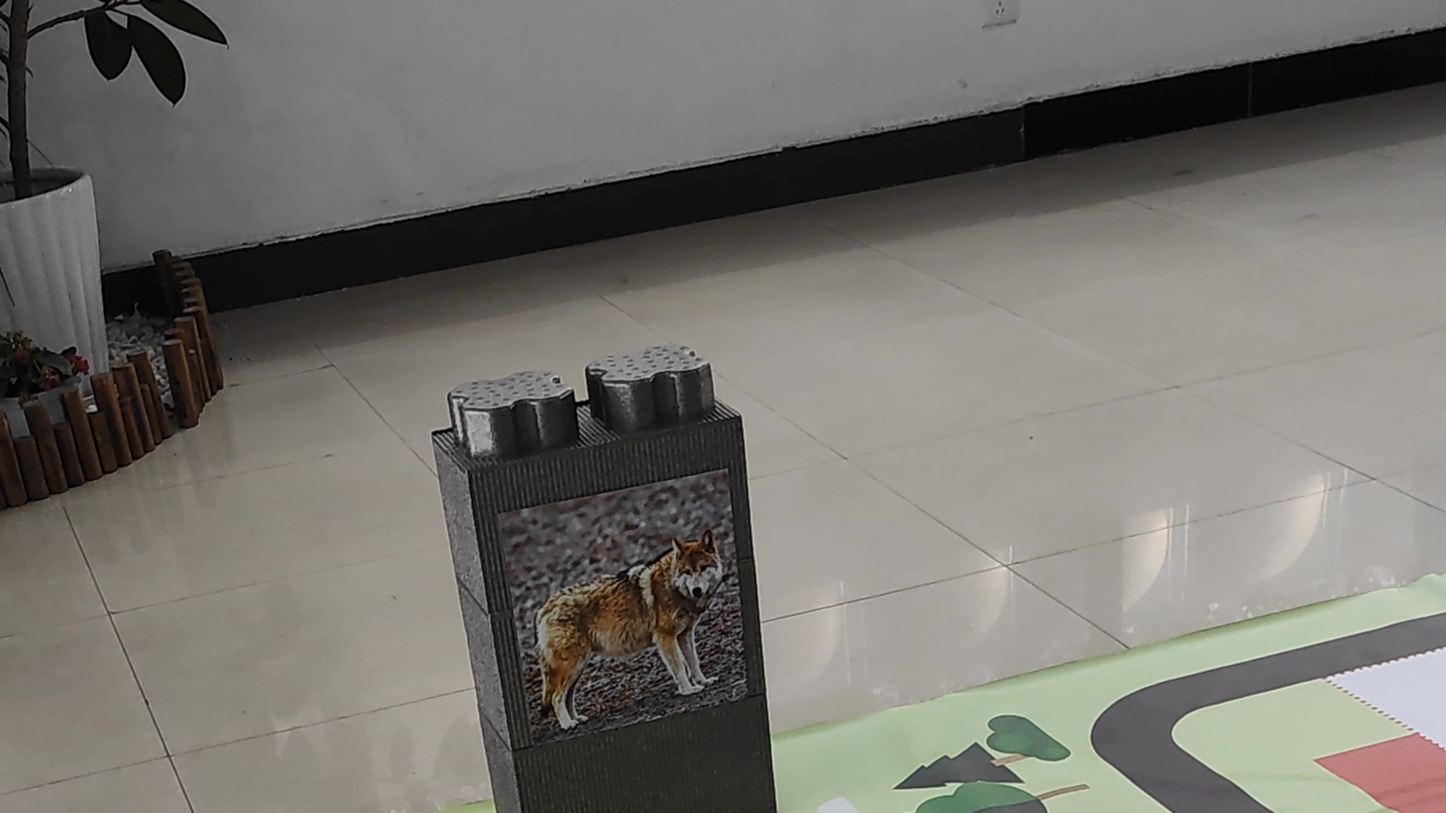wolf: (499, 500, 745, 723)
